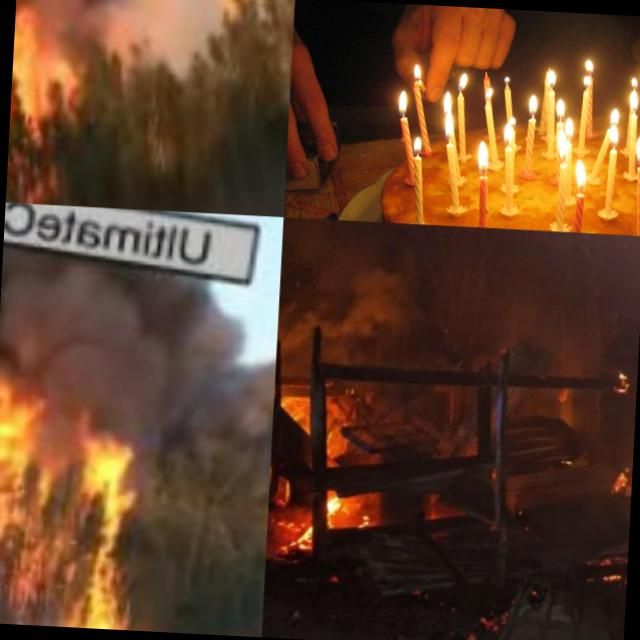fire: (0, 333, 148, 630), (10, 0, 45, 115), (436, 89, 461, 148), (554, 33, 576, 95), (322, 492, 354, 524), (608, 362, 631, 400), (475, 131, 493, 176), (572, 154, 592, 192), (605, 108, 623, 150), (624, 74, 640, 115), (580, 54, 598, 90), (543, 60, 562, 91), (502, 115, 519, 149), (395, 86, 412, 116), (411, 129, 425, 158), (409, 57, 424, 83), (456, 66, 471, 92), (481, 84, 496, 106), (527, 91, 540, 116), (502, 67, 513, 90), (635, 131, 640, 164)
smoke: (276, 254, 422, 375), (43, 0, 255, 76)
